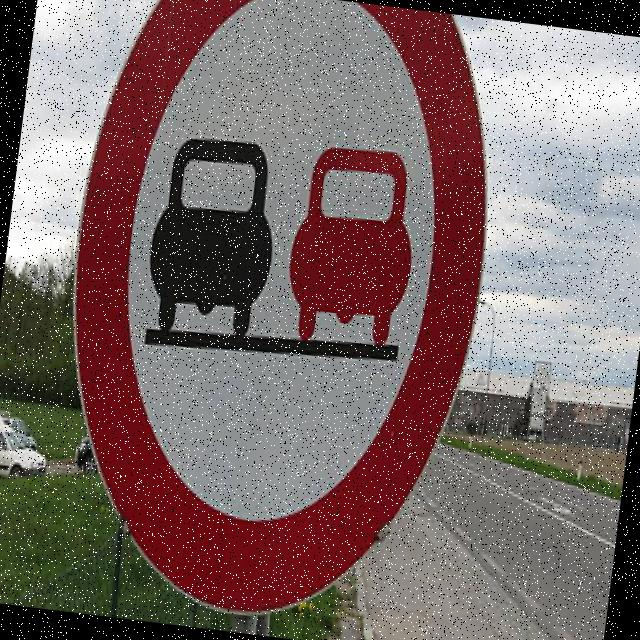no_passing: (26, 0, 521, 631)
